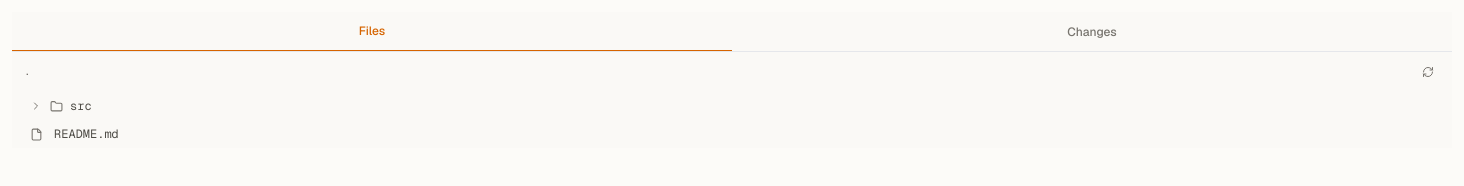
Scenario: FilesSidebar › keeps directories collapsed by default and expands them on demand
The width and height of the screenshot is (1464, 186).
Check: the text "src/index.ts" is not shown
Click the button "src": (36, 106) top-left (20, 92), bottom-right (1444, 120)
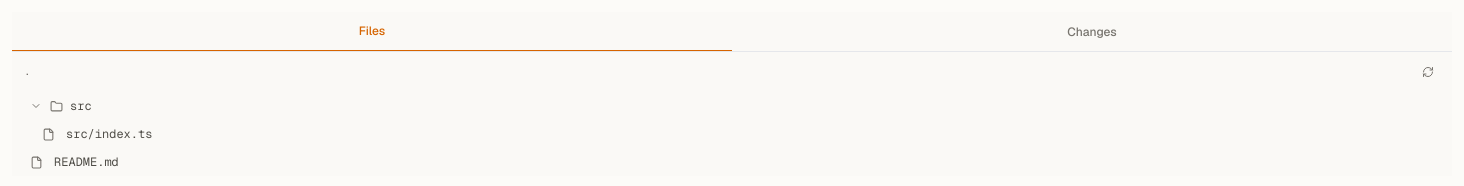
Check: the text "src/index.ts" is shown, box top-left (66, 126), bottom-right (152, 142)
